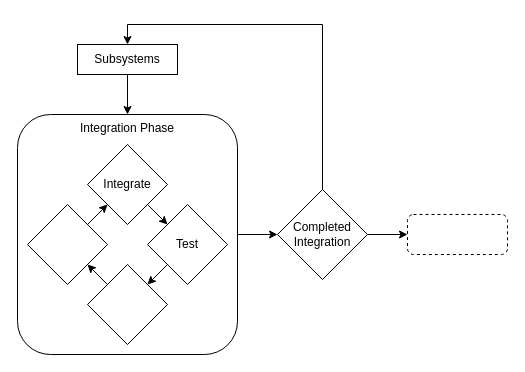
This 525x372 diagram has some shape labels left out. The centre of each missing label's shape, as x and y in pixels:
"Refine" belongs at [127,304].
"Review" belongs at [67,244].
"Testing Phase" belongs at [457,234].
